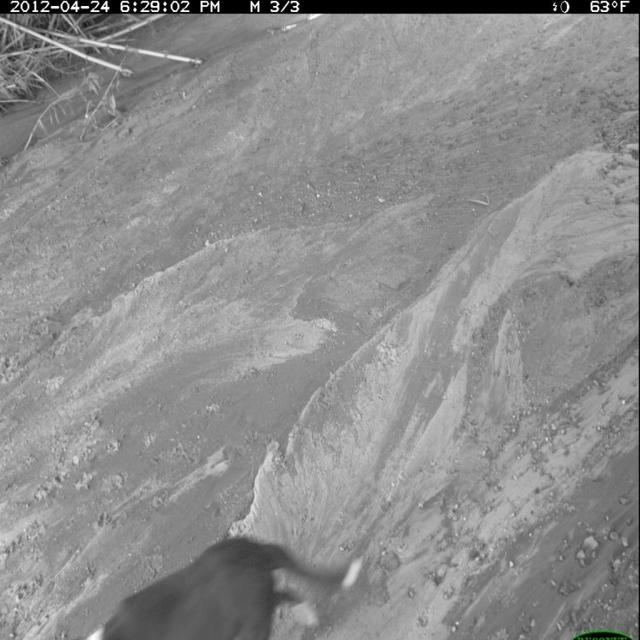dog: (74, 533, 367, 640)
